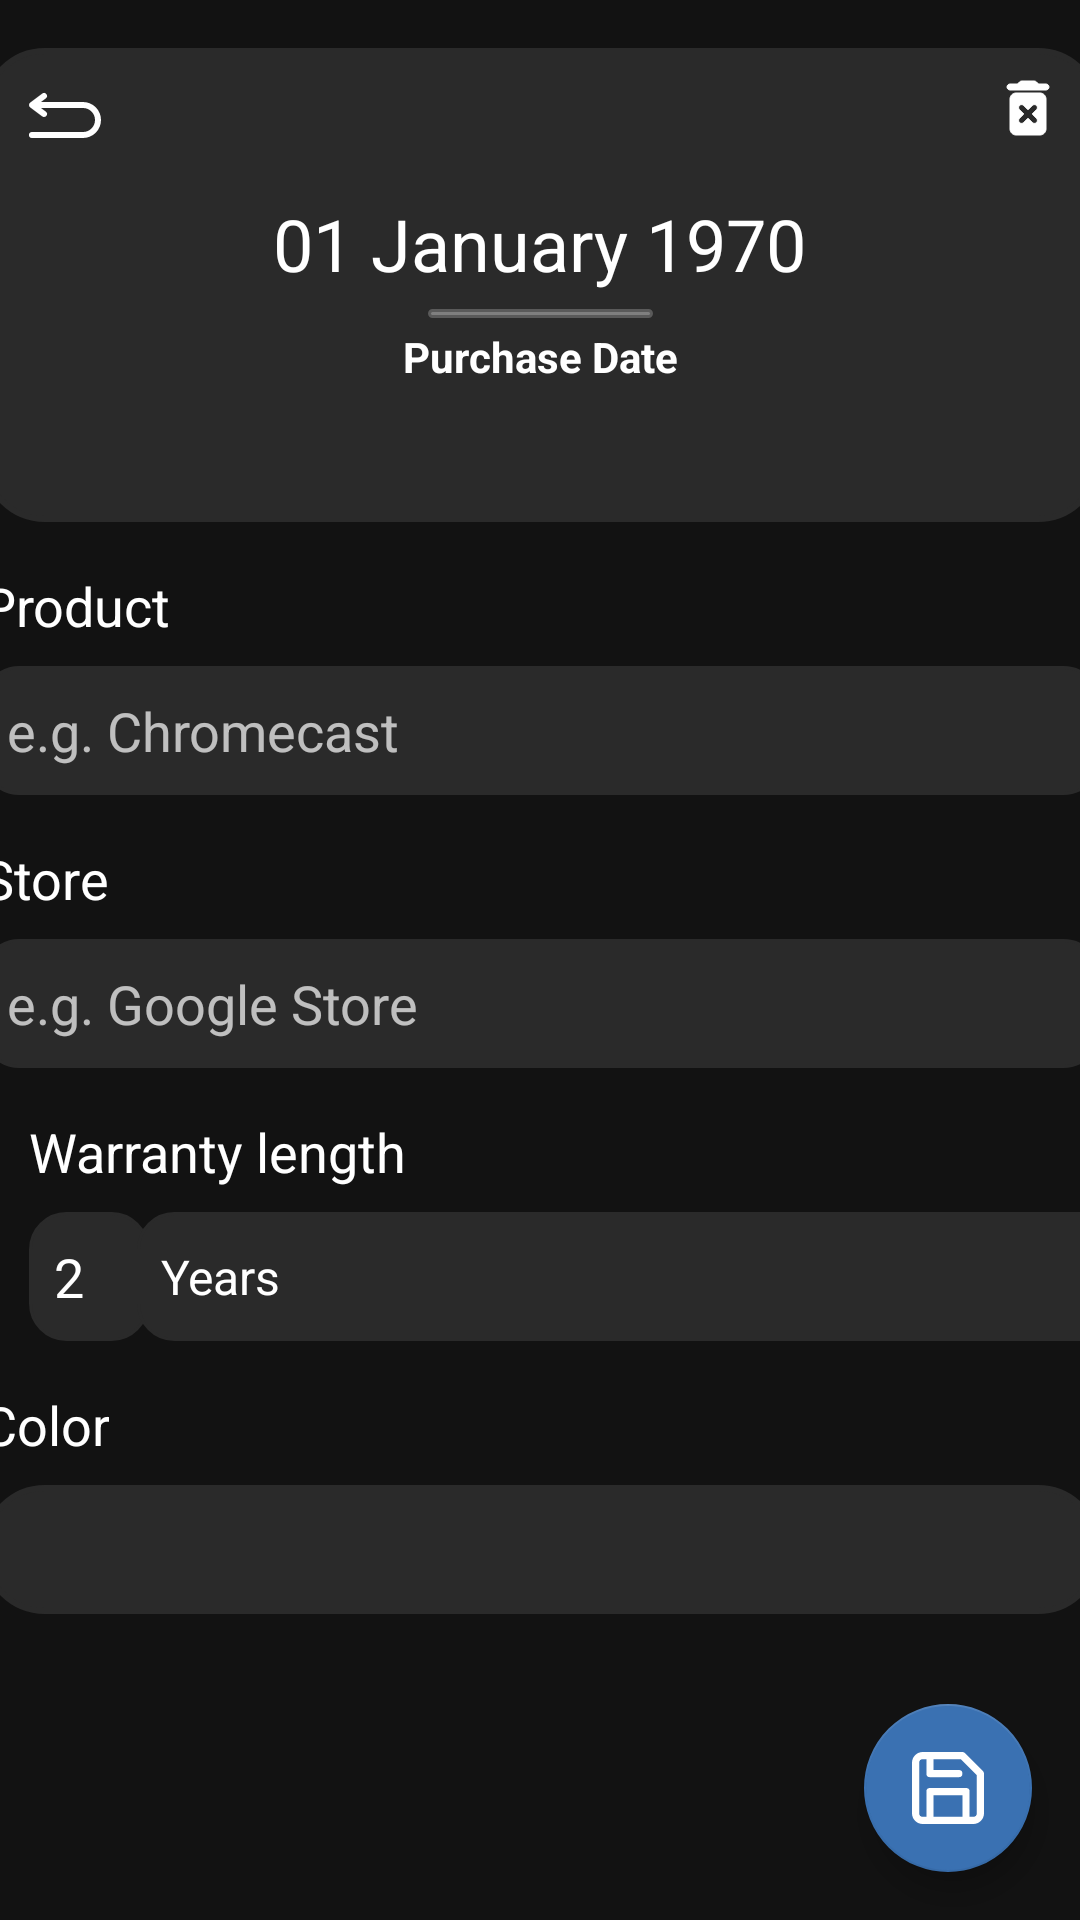

Where icons sit on this 1080×1920 app screen, as (x1, y1, x2, y2):
back: (29, 93, 101, 138)
delete: (1006, 80, 1050, 136)
save: (864, 1704, 1032, 1872)
